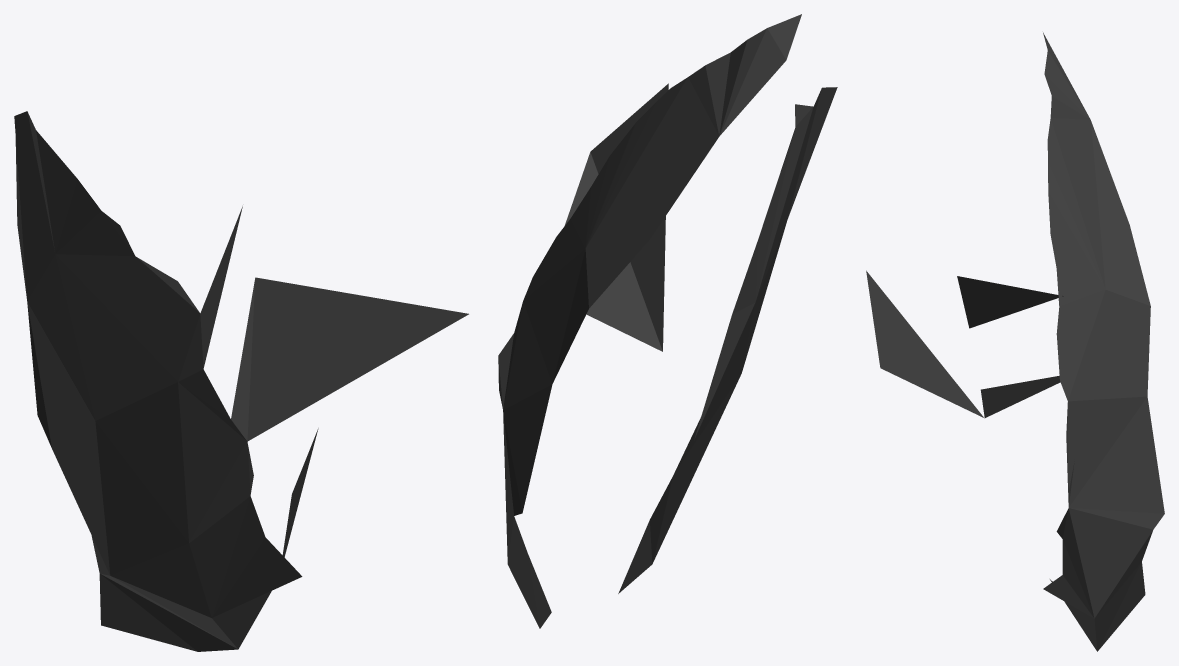
The model's file is A_brachial_deep_A_brachial_deep.glb.
The picture shows the model from 3 angles, left to right: view 1: azimuth 30°, elevation 25°; view 2: azimuth 150°, elevation 25°; view 3: azimuth 270°, elevation 25°; orthographic projection. The views are drawn at different scales.
Visible parts, largest first — view 1: A_brachial_deep_A_brachial_deep; view 2: A_brachial_deep_A_brachial_deep; view 3: A_brachial_deep_A_brachial_deep.
Boxes of the visible parts, left/top/right/bottom form: A_brachial_deep_A_brachial_deep: left=14, top=111, right=468, bottom=651; A_brachial_deep_A_brachial_deep: left=498, top=14, right=837, bottom=628; A_brachial_deep_A_brachial_deep: left=866, top=32, right=1164, bottom=651.
Size of the model in its own units: 0.00376 by 0.00737 by 0.00361.
1 material, 1 textured.
